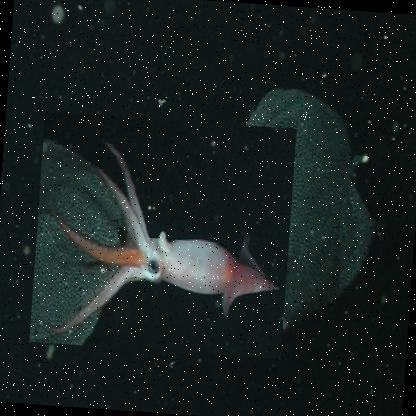colossal_squid: (29, 110, 298, 360)
